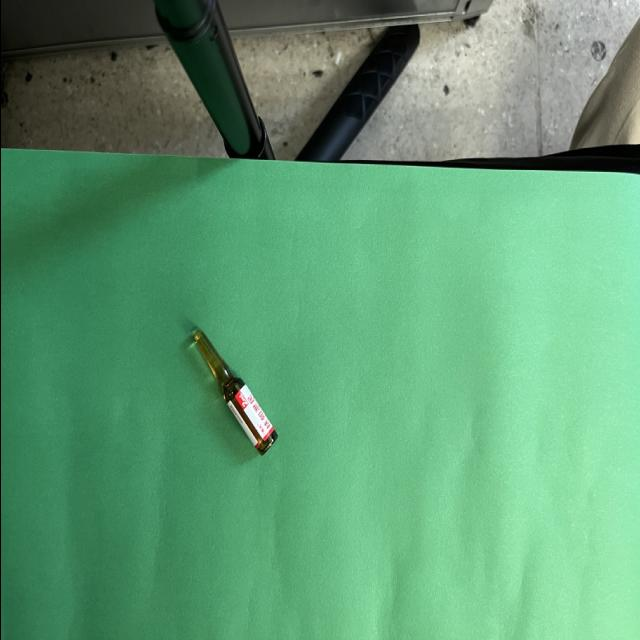Ampoules: (192, 330, 277, 456)
